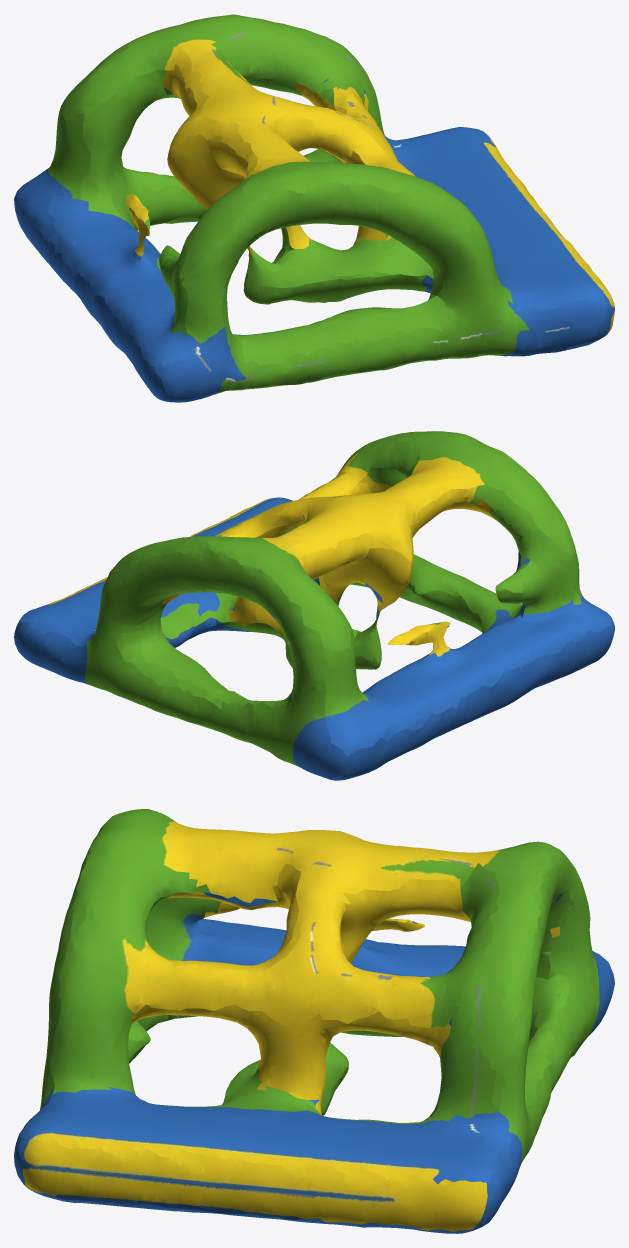
File: bridge.glb
3 renders of one model, top to bottom at view 1: azimuth 30°, elevation 25°; view 2: azimuth 150°, elevation 25°; view 3: azimuth 270°, elevation 25°, orthographic. The views are drawn at different scales.
Parts seen in each view (by area): view 1: geometry_0; view 2: geometry_0; view 3: geometry_0.
Part boxes in pixels (x1,y1,x2,y2): geometry_0: (14,14,614,402); geometry_0: (14,431,614,780); geometry_0: (14,809,614,1233).
Size of the model in its own units: 1.11 by 0.4479 by 1.04.
Materials: 1 (1 with a texture image).
